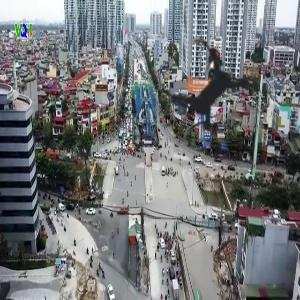drone: (121, 7, 296, 182)
